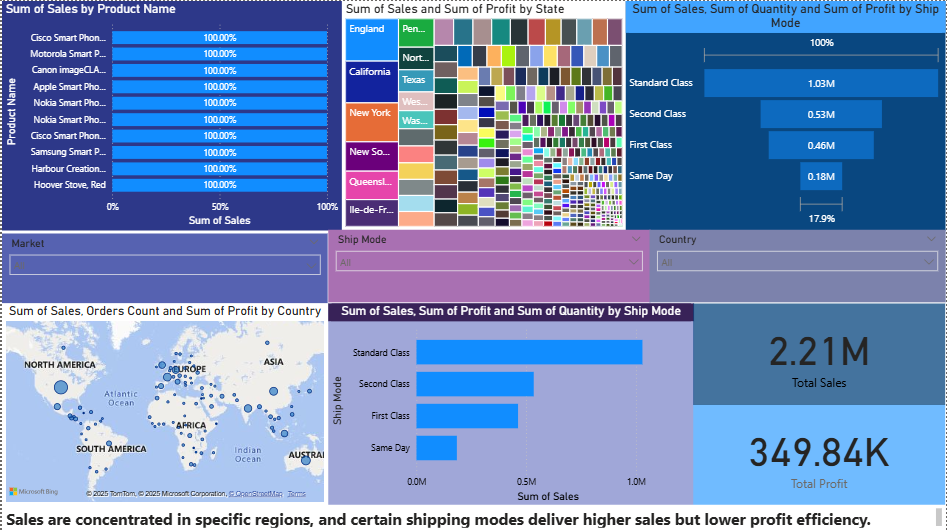

The dashboard page shown, as its layout file describes it:
{"tool":"powerbi","page":{"name":"Geography & Shipping Analysis","canvas":[1280,720],"ordinal":2},"visuals":[{"type":"hundredPercentStackedBarChart","fields":{"Category":["Orders.Product Name"],"Y":["Sum(Orders.Sales)"]},"box":[0,0,460.8,310.8],"z":0},{"type":"map","fields":{"Category":["Orders.Country"],"Size":["Sum(Orders.Sales)"]},"box":[0,409.5,441.9,274.3],"z":1000},{"type":"treemap","fields":{"Values":["Sum(Orders.Sales)"],"Group":["Orders.State"]},"box":[460.8,0,385.1,310.8],"z":2000},{"type":"clusteredBarChart","fields":{"Category":["Orders.Ship Mode"],"Y":["Sum(Orders.Sales)"]},"box":[441.9,409.5,495.9,274.3],"z":3000},{"type":"funnel","fields":{"Category":["Orders.Ship Mode"],"Y":["Sum(Orders.Sales)"]},"box":[845.9,0,433.8,310.8],"z":4000},{"type":"card","fields":{"Values":["Orders.Total Profit"]},"box":[937.8,547.3,341.9,136.5],"z":5000},{"type":"card","fields":{"Values":["Orders.Total Sales"]},"box":[937.8,409.5,341.9,137.8],"z":6000},{"type":"slicer","fields":{"Values":["Orders.Market"]},"box":[0,314.9,441.9,94.6],"z":7000},{"type":"slicer","fields":{"Values":["Orders.Ship Mode"]},"box":[441.9,310.8,436.5,98.6],"z":8000},{"type":"slicer","fields":{"Values":["Orders.Country"]},"box":[878.4,310.8,401.4,98.6],"z":9000},{"type":"textbox","box":[0,683.8,1279.7,36.5],"z":10000}]}

Visuals, with their boxes in screenshot pixels (x1, y1, x2, y2), scaled from the page's 1280x720 canvas onto the 947x532 screenshot:
hundredPercentStackedBarChart - Orders.Product Name x Sum(Orders.Sales): (left=0, top=0, right=341, bottom=230)
map - Orders.Country x Sum(Orders.Sales): (left=0, top=303, right=327, bottom=505)
treemap - Sum(Orders.Sales) x Orders.State: (left=341, top=0, right=626, bottom=230)
clusteredBarChart - Orders.Ship Mode x Sum(Orders.Sales): (left=327, top=303, right=694, bottom=505)
funnel - Orders.Ship Mode x Sum(Orders.Sales): (left=626, top=0, right=946, bottom=230)
card - Orders.Total Profit: (left=694, top=404, right=946, bottom=505)
card - Orders.Total Sales: (left=694, top=303, right=946, bottom=404)
slicer - Orders.Market: (left=0, top=233, right=327, bottom=303)
slicer - Orders.Ship Mode: (left=327, top=230, right=650, bottom=303)
slicer - Orders.Country: (left=650, top=230, right=946, bottom=303)
textbox: (left=0, top=505, right=946, bottom=531)
